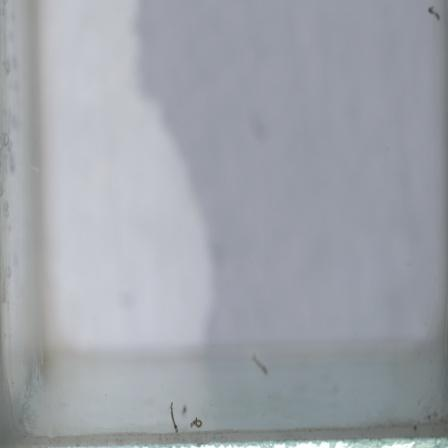Jentik-Nyamuk: (167, 399, 181, 435), (186, 409, 207, 432)
